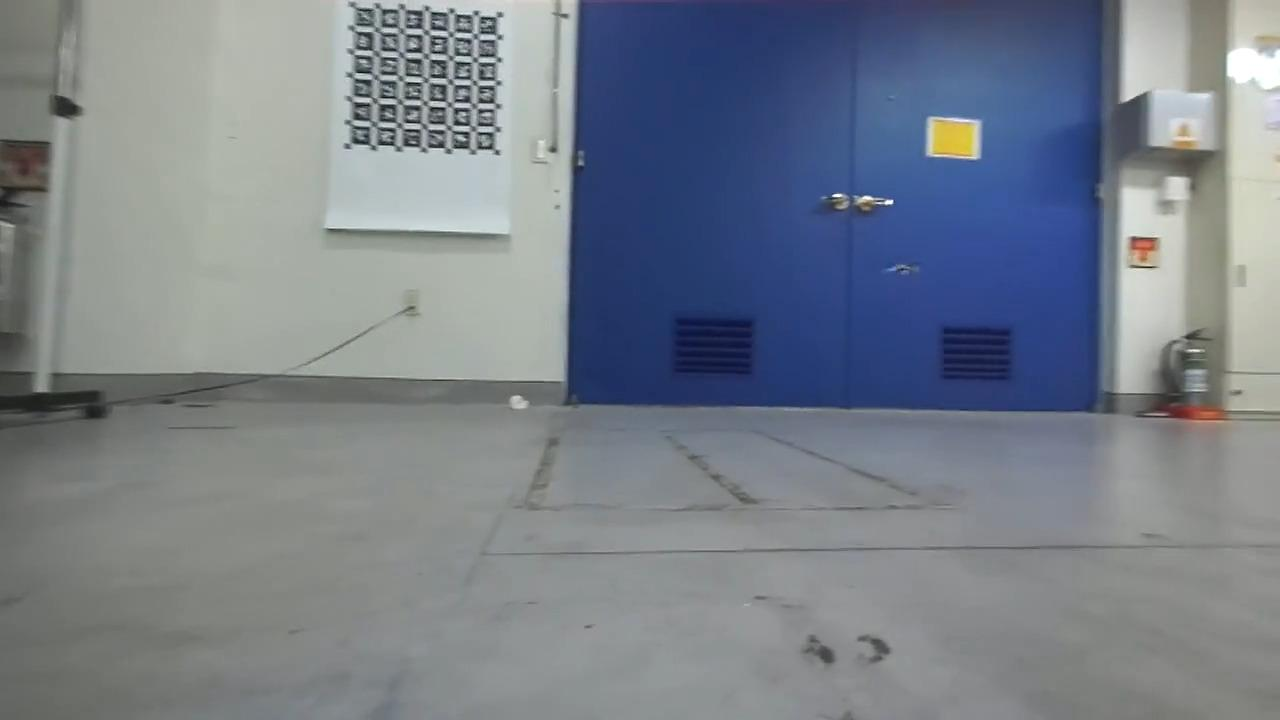crazyflie: (875, 256, 932, 282)
